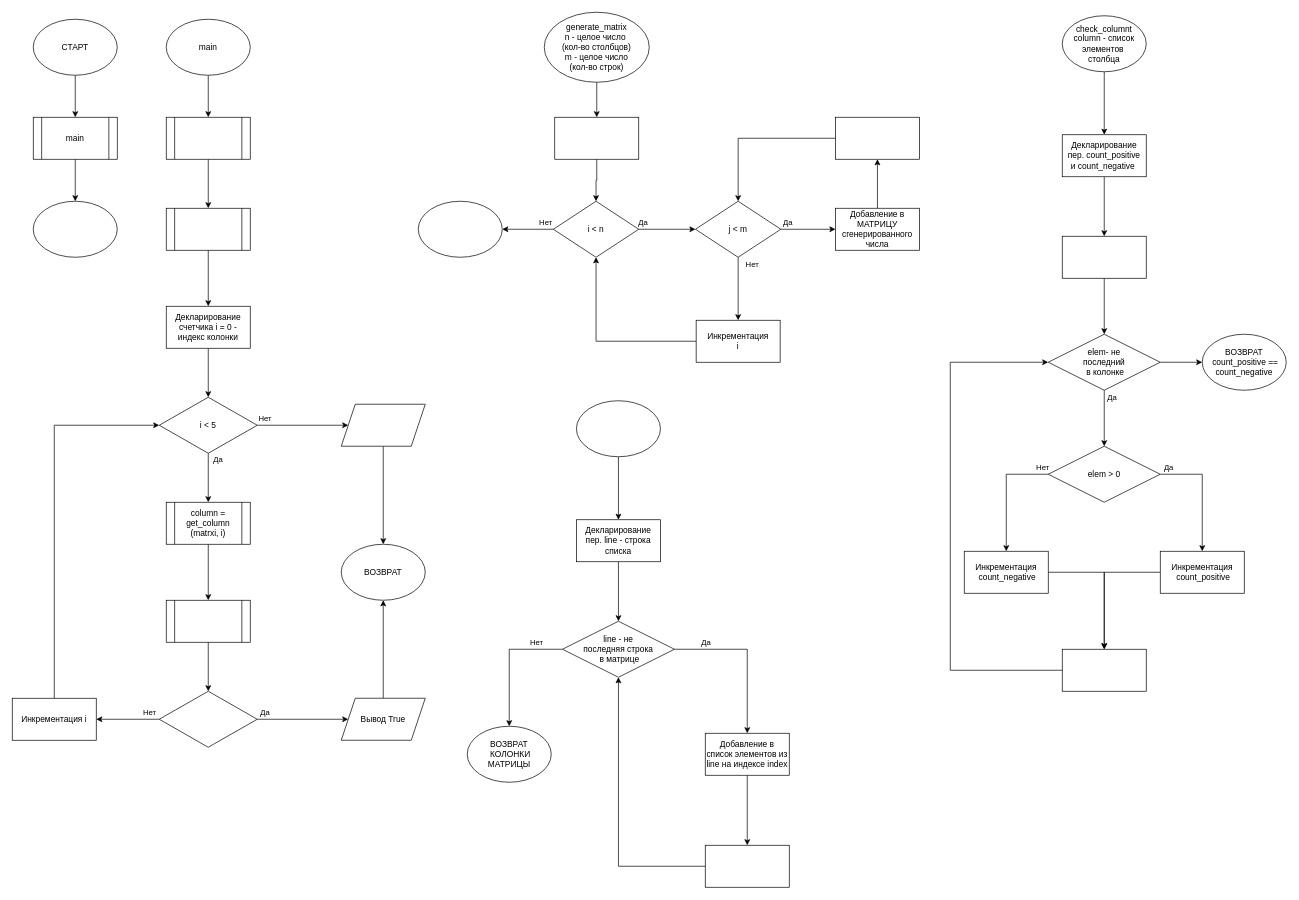
This 1299x900 diagram has some shape labels left out. The centre of each missing label's shape, as x and y in pixels:
"check" goes at (x=208, y=719).
"check = check_column (column)" goes at (x=208, y=621).
"get_column matrix - матрица index - индекс столбца" goes at (x=618, y=428).
"matrix = generate_matrix (8, 5)" goes at (x=208, y=138).
"print_matrix (matrix)" goes at (x=208, y=229).
"ВОЗВРАТ МАТРИЦЫ" goes at (x=460, y=229).
"Вывод False" goes at (x=383, y=425).
"Декларирование пер. elem - элемент колонки" goes at (x=1104, y=257).
"Декларирование счетчиков i = 0 j = 0" goes at (x=596, y=138).
"Инкрементация j" goes at (x=877, y=138).
"КОНЕЦ" goes at (x=75, y=229).
"Следующая строка в пер. line" goes at (x=747, y=866).
"Следующий элемент в пер. elem" goes at (x=1104, y=670).
